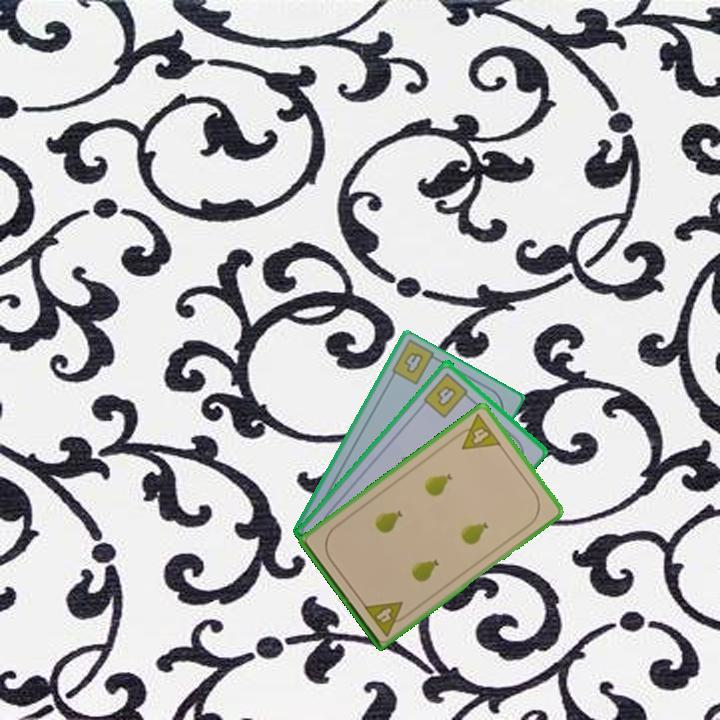4b: (420, 368, 475, 421), (400, 348, 426, 376)
4p: (450, 410, 504, 453), (360, 597, 413, 639)
